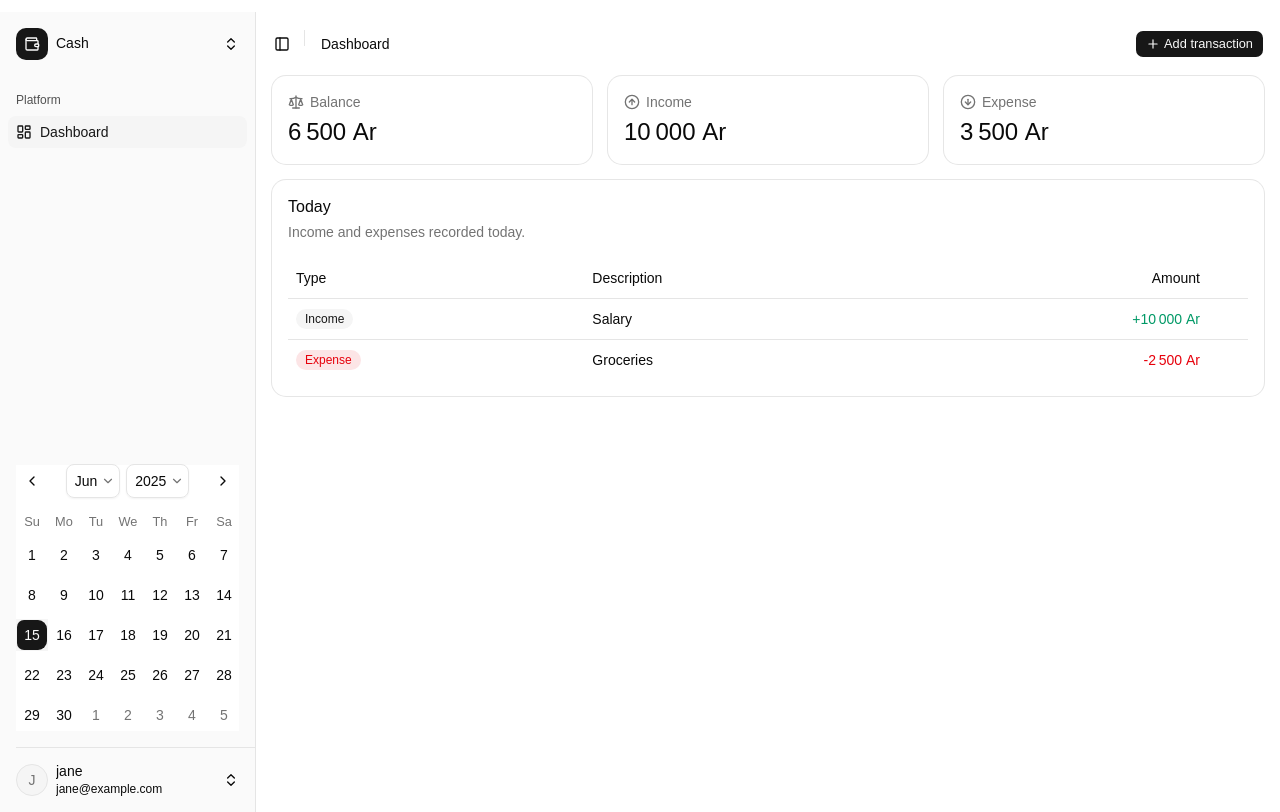
Test: Dashboard day list › says so when nothing was recorded on the chosen day
expect the text "Salary" is shown: met, box [584, 298, 900, 339]
Click the button named "June 11th, 2025": (128, 595) [112, 579, 144, 611]
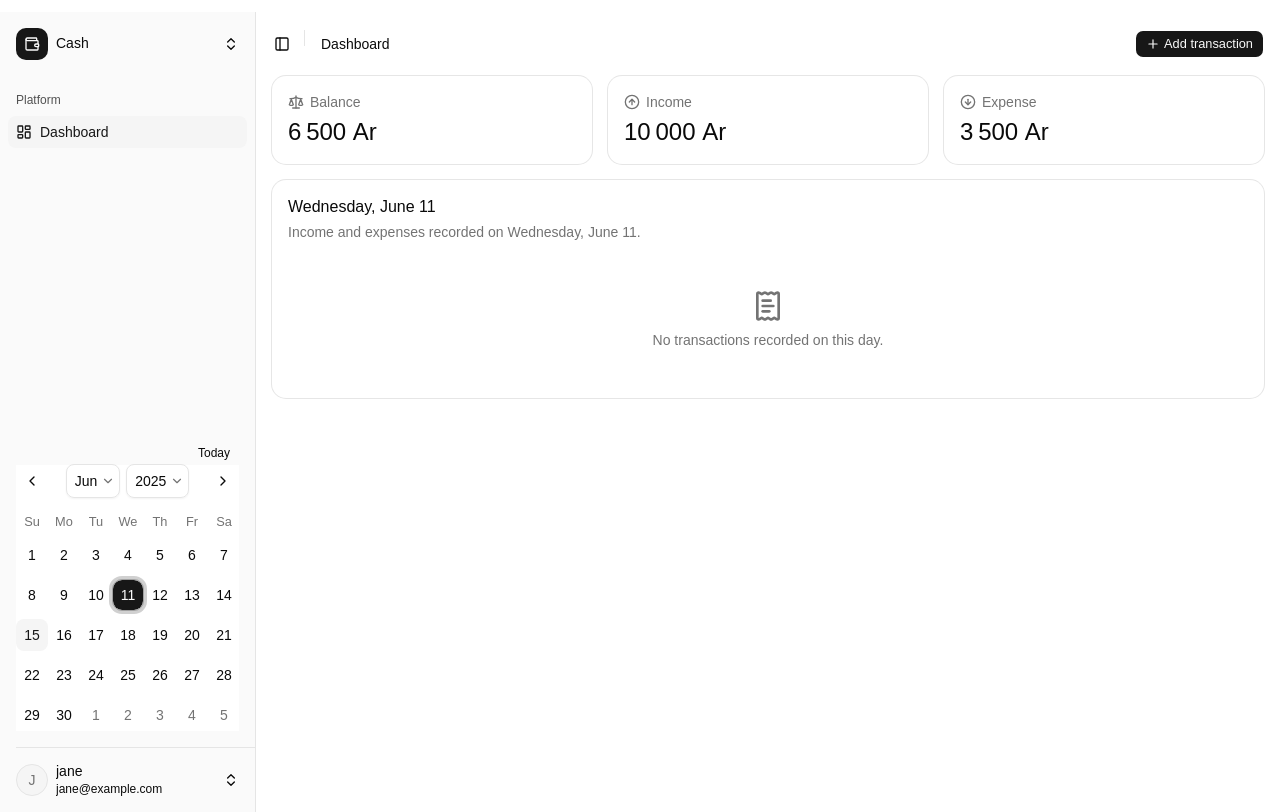
expect the text "No transactions recorded on this day." is shown: met, box [653, 330, 884, 350]
